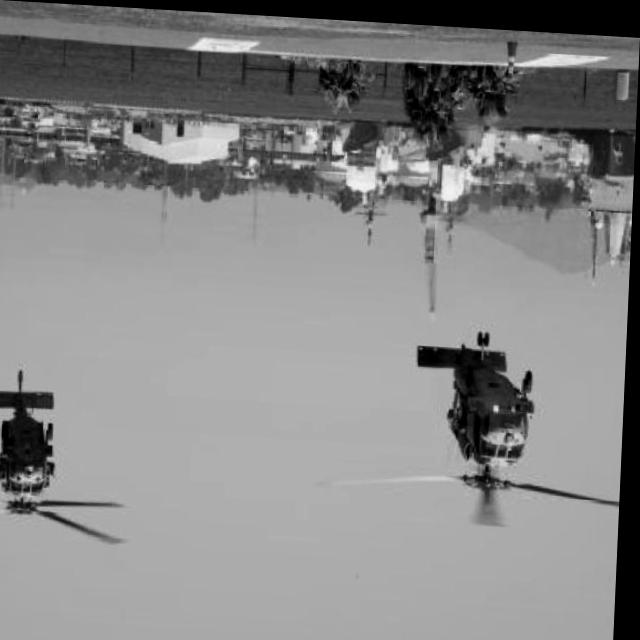helikopter: (352, 301, 630, 538), (0, 344, 144, 561)
